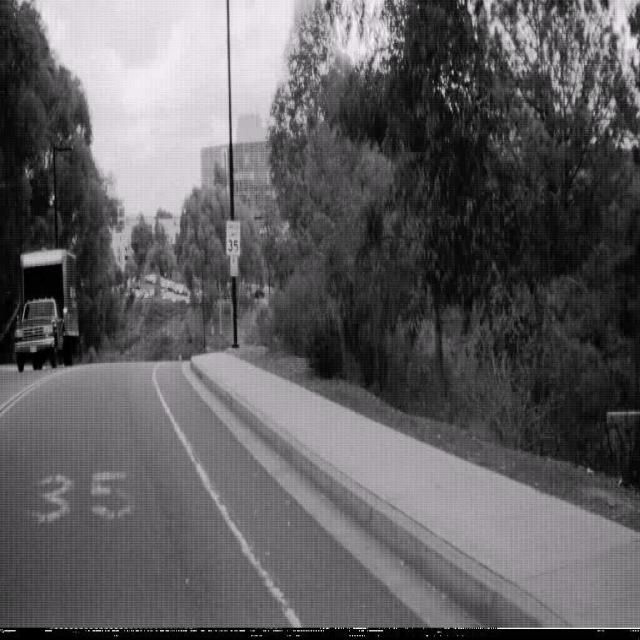speedLimit35: (224, 218, 242, 258)
